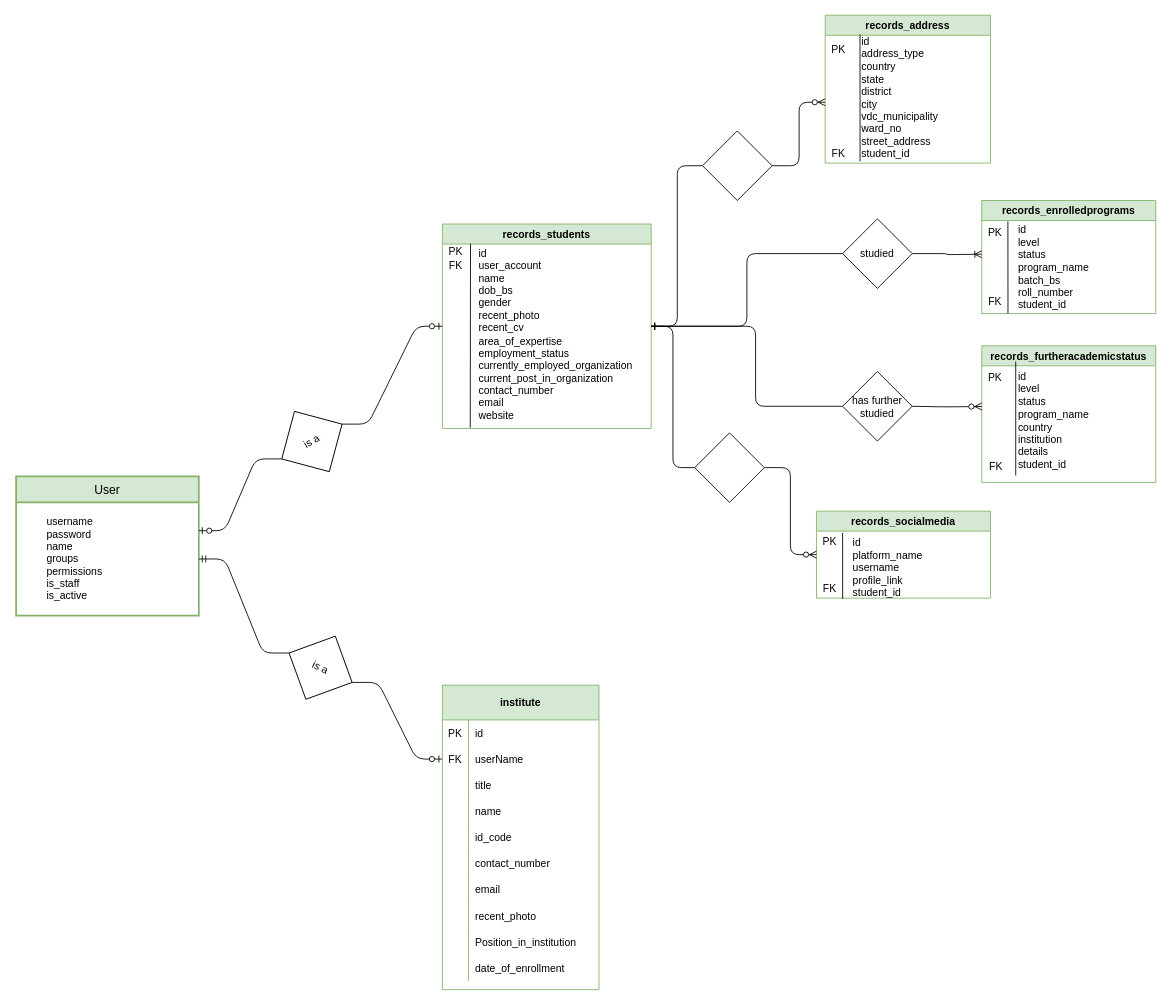
The diagram is 1171 pixels wide and 1005 high, and some of its shapes have lost their labels. Each missing label, with the centre of its shape:
"is active at" belongs at point 729,467.
"stays in" belongs at point 737,165.
